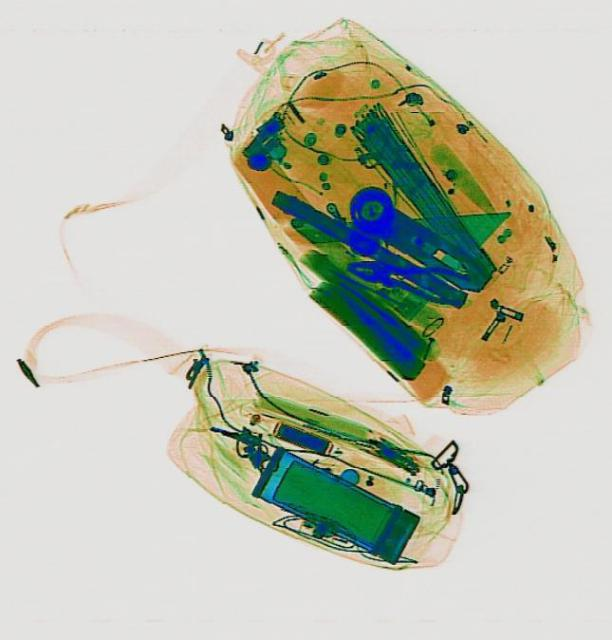Pliers: (341, 246, 468, 306)
